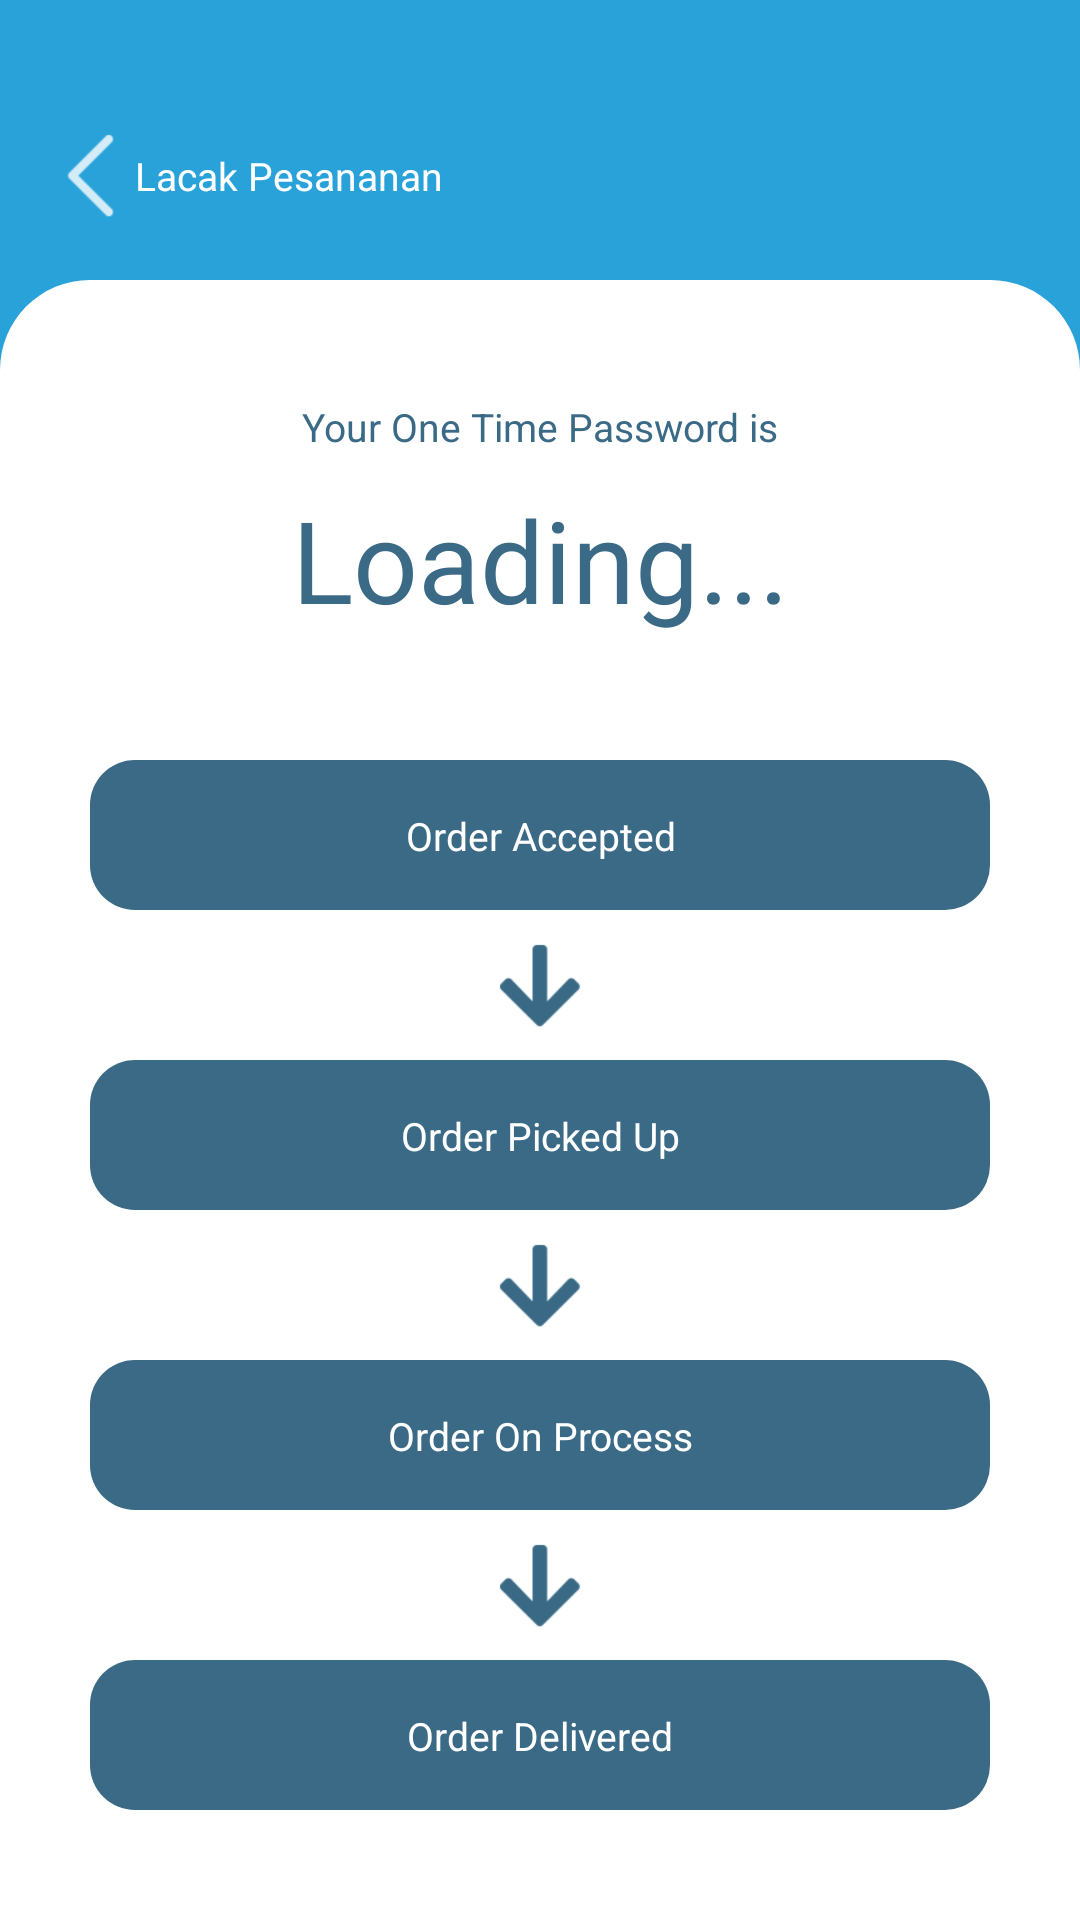

Where icons sit on this 1080 x 1920 app screen, as bbox=[x1, y1, x2, y2]:
downarrow: bbox=[500, 945, 580, 1027], bbox=[500, 1245, 580, 1327], bbox=[500, 1545, 580, 1627]
navigate back: bbox=[67, 135, 114, 217]
